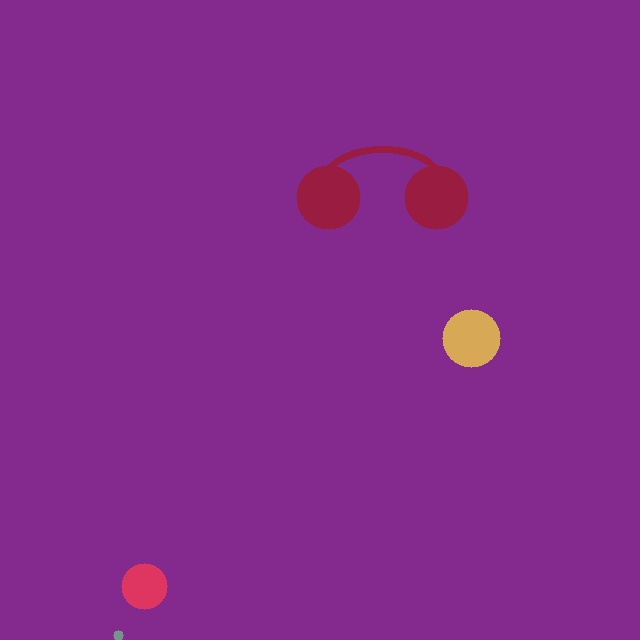over_ear: (292, 130, 472, 233)
